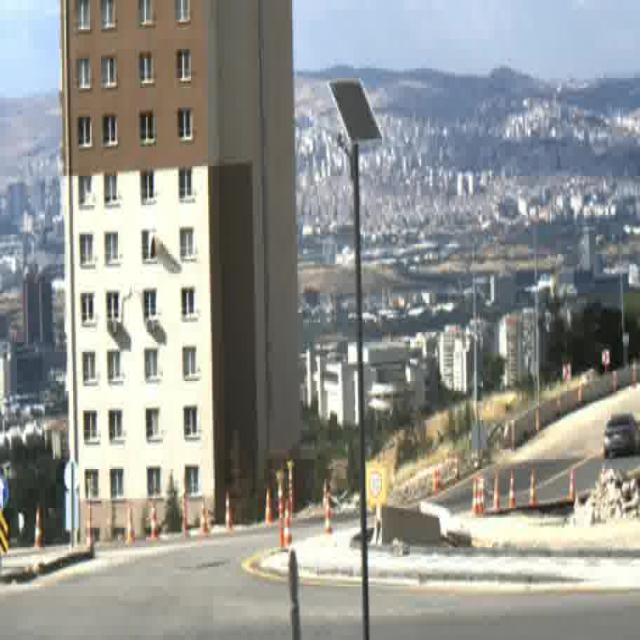Car: (604, 416, 640, 460)
